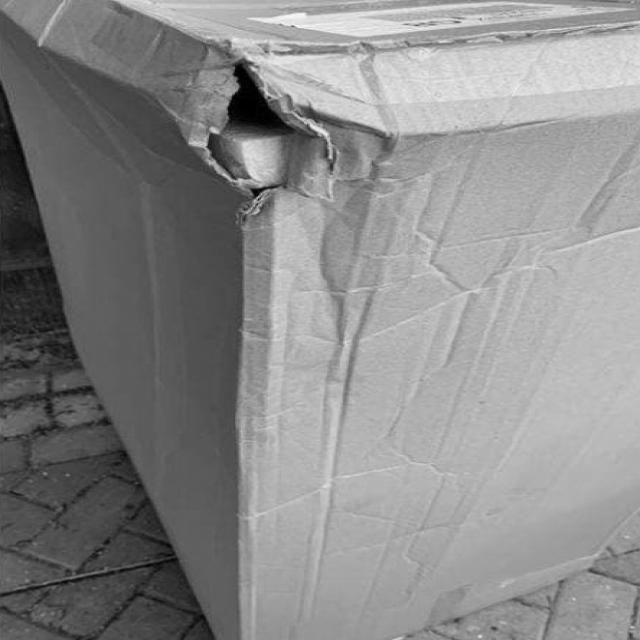hole: (181, 57, 353, 227)
